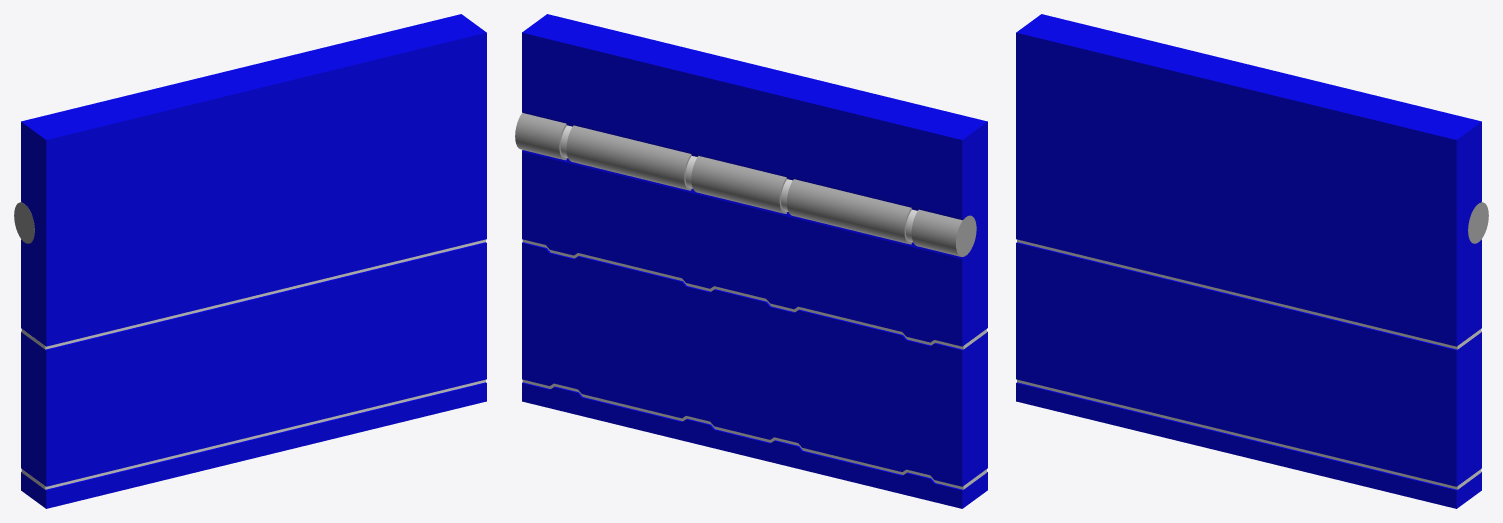
Rendered from Walls2x1Merged.fbx.
3 renders of one model, left to right at view 1: azimuth 30°, elevation 25°; view 2: azimuth 150°, elevation 25°; view 3: azimuth 330°, elevation 25°, orthographic.
Parts seen in each view (by area): view 1: Wall2x1_Combined; view 2: Wall2x1_Combined; view 3: Wall2x1_Combined.
Boxes of the visible parts, bbox=[...] form: Wall2x1_Combined: bbox=[14, 14, 486, 508]; Wall2x1_Combined: bbox=[515, 14, 987, 508]; Wall2x1_Combined: bbox=[1016, 14, 1488, 508].
Size of the model in its own units: 1000 by 800 by 126.
